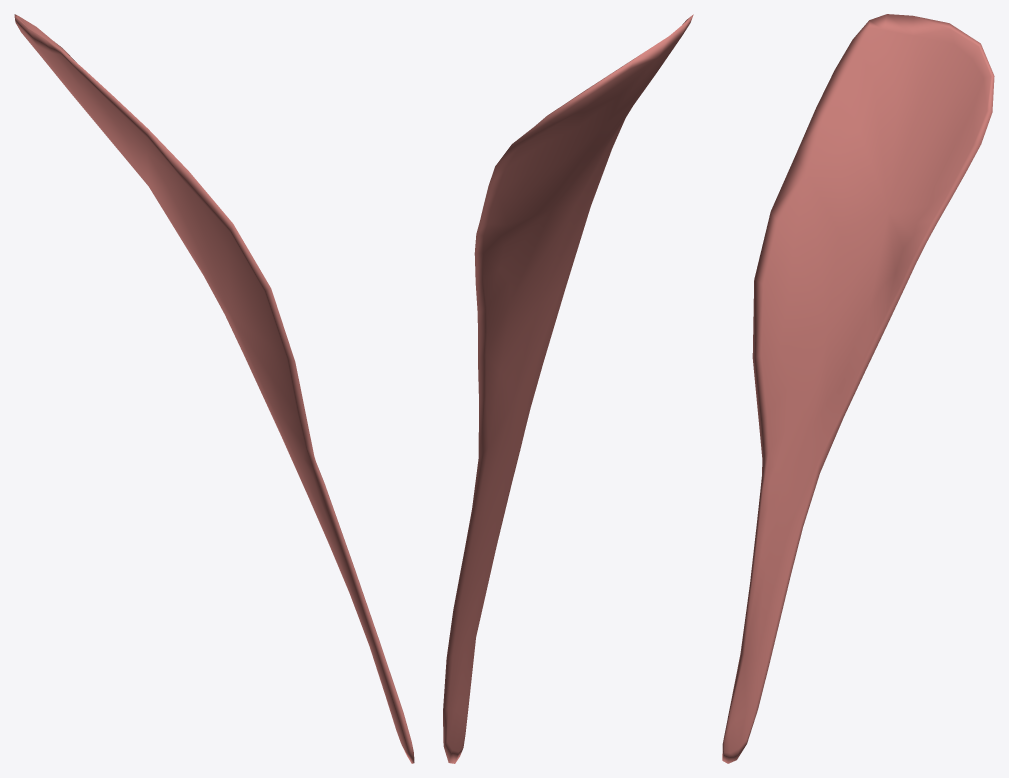
The picture shows the model from 3 angles, left to right: view 1: azimuth 30°, elevation 25°; view 2: azimuth 150°, elevation 25°; view 3: azimuth 270°, elevation 25°; orthographic projection. The views are drawn at different scales.
Visible parts, largest first — view 1: ZA_0e5aad03a83d5b44; view 2: ZA_0e5aad03a83d5b44; view 3: ZA_0e5aad03a83d5b44.
Part boxes in pixels (x1=…): ZA_0e5aad03a83d5b44: x1=14, y1=14, x2=414, y2=763; ZA_0e5aad03a83d5b44: x1=443, y1=14, x2=693, y2=763; ZA_0e5aad03a83d5b44: x1=722, y1=14, x2=994, y2=763.
Size of the model in its own units: 0.0197 by 0.0493 by 0.0192.
